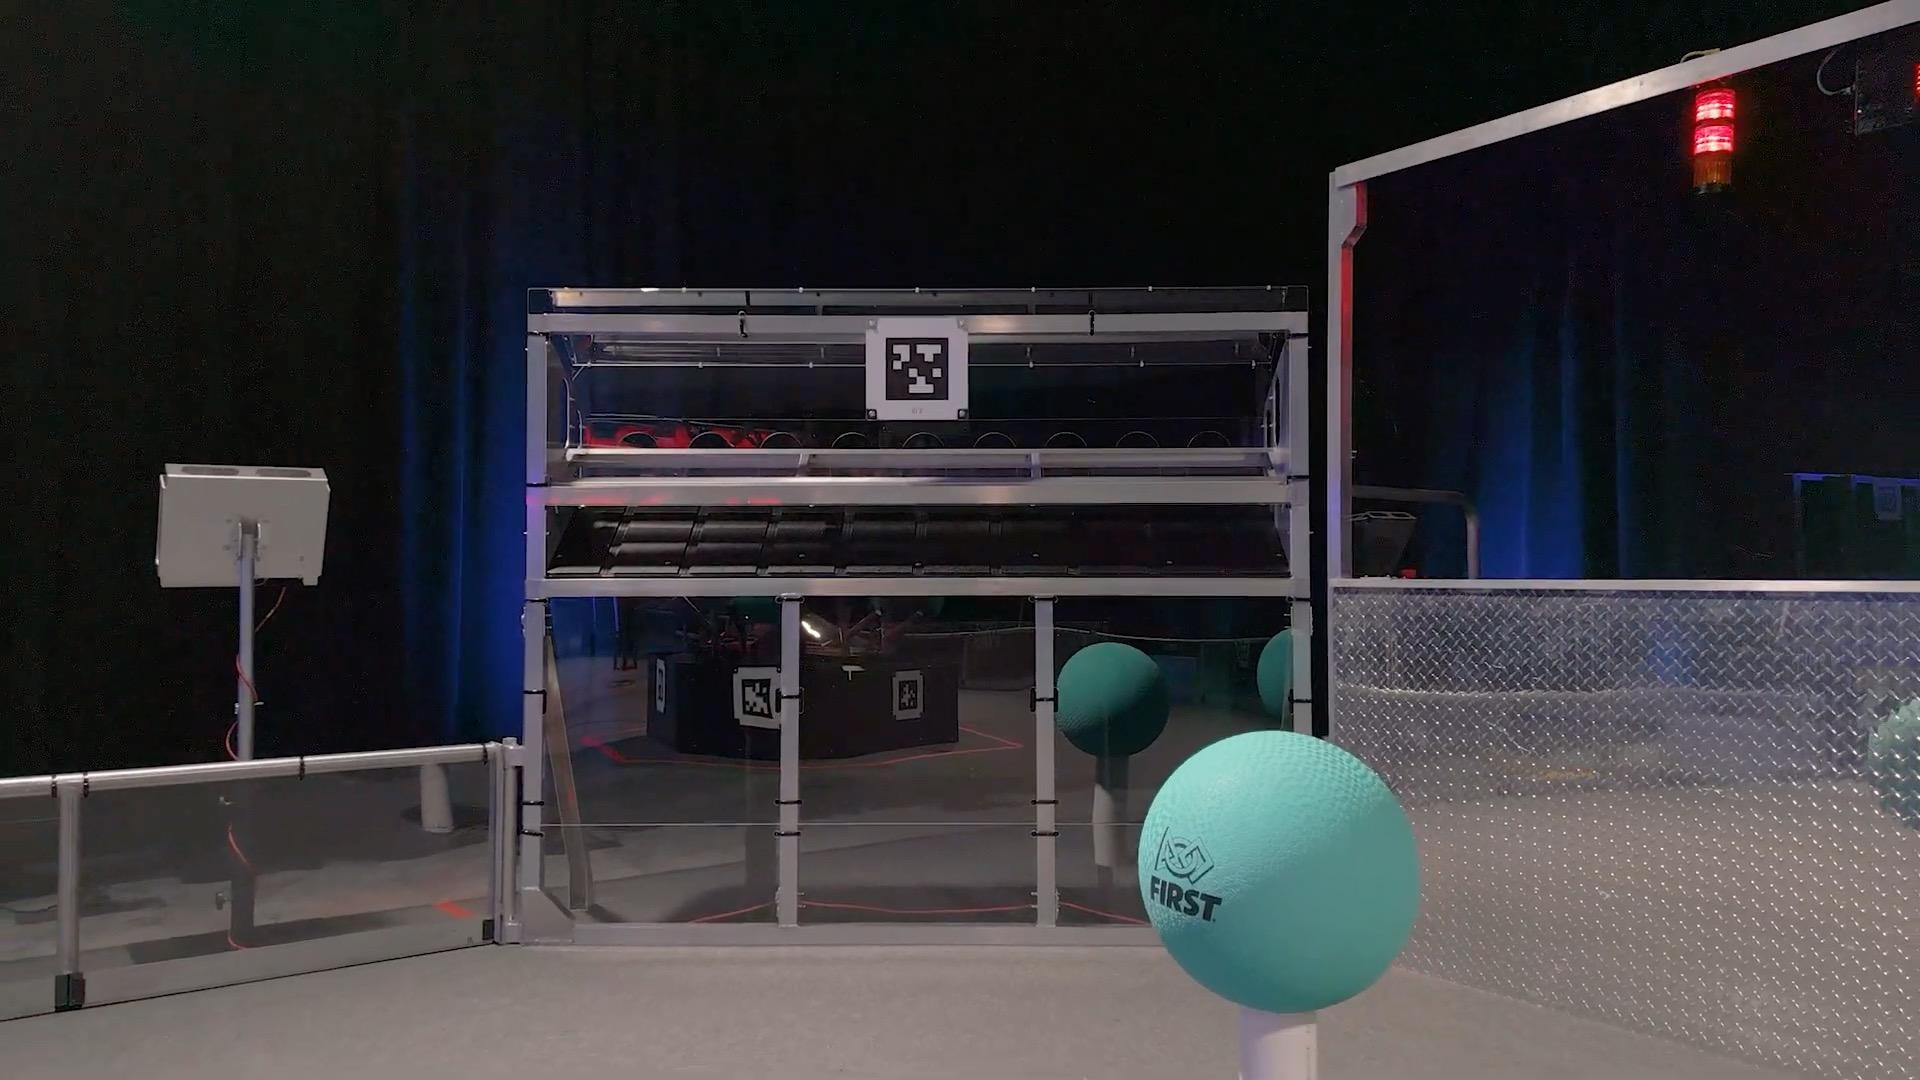ALGAE: (1139, 731, 1423, 1011)
CORAL: (1236, 1004, 1319, 1080)
